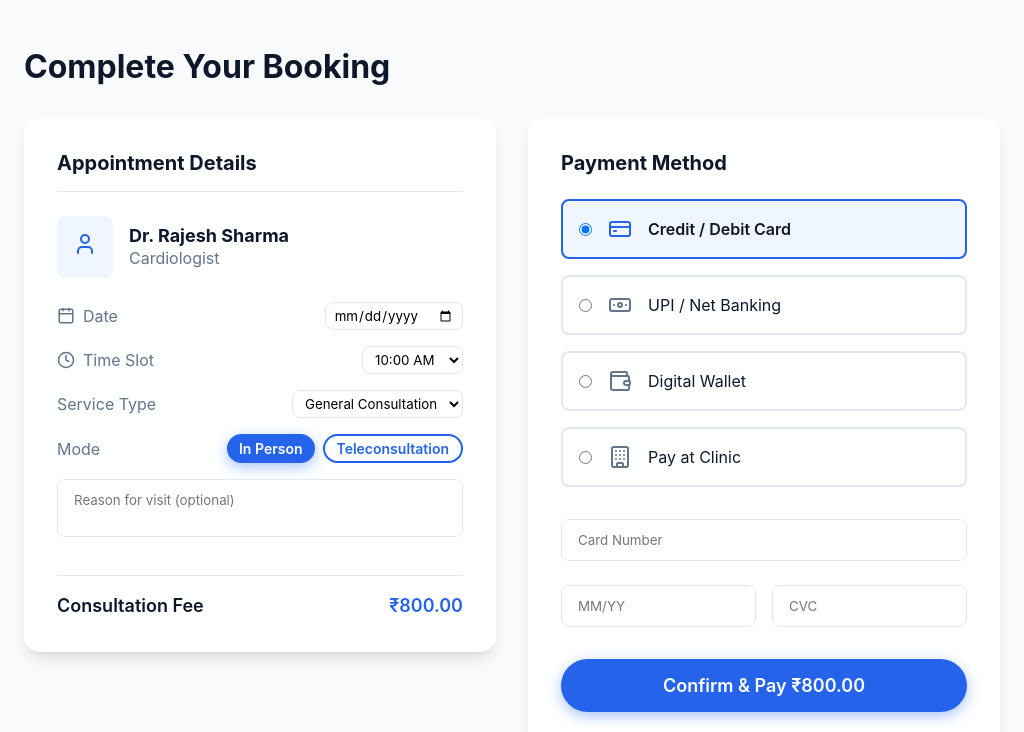
Test: Checkout appointment booking form › shows session expiry when no patient session exists
The image size is (1024, 732).
Type "2026-05-20" into the date field at (394, 316), box [325,302,463,330]
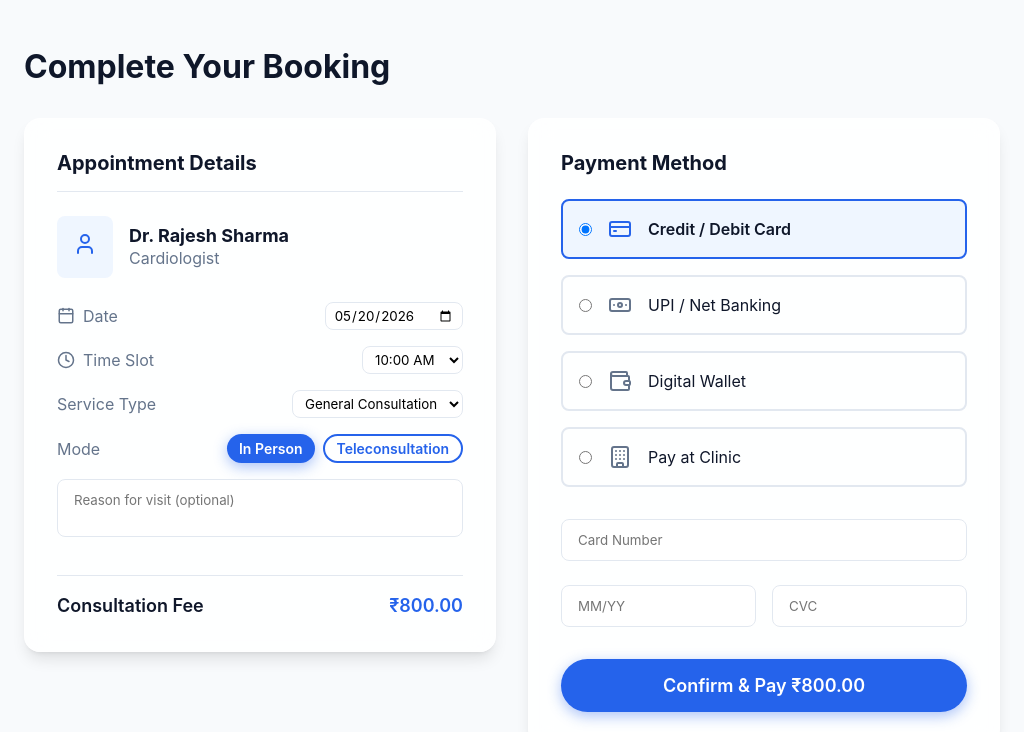
Click the button "Confirm & Pay ₹800.00" at (764, 686), box [561,659,967,712]
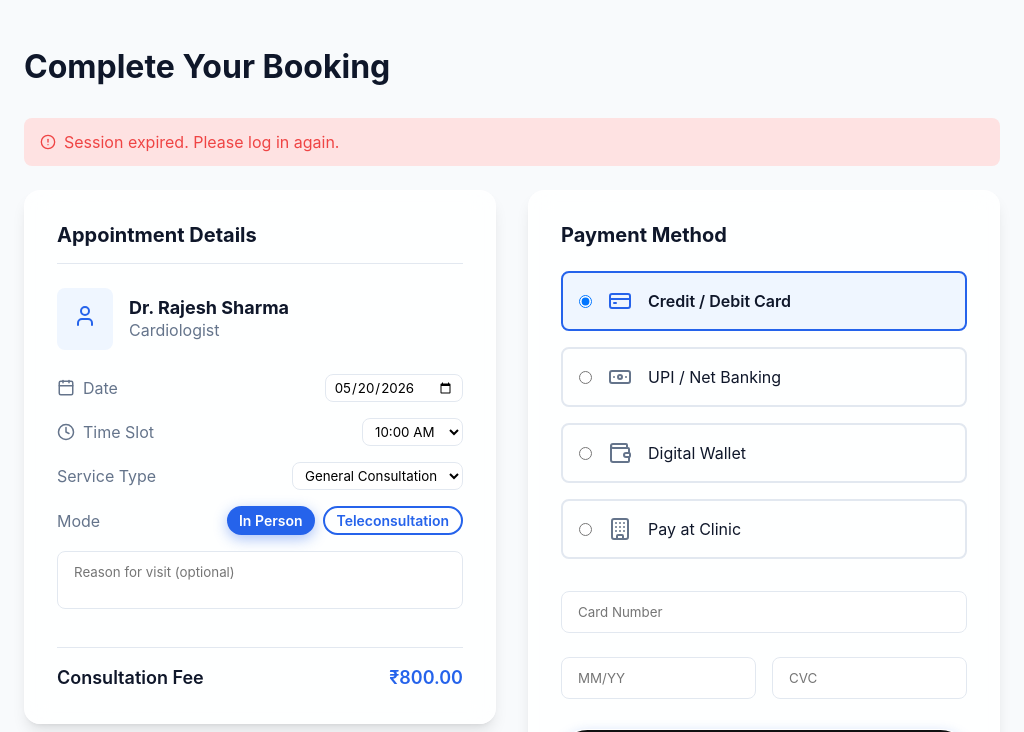
Result: the text "Session expired. Please log in again." is shown at [24,118,1000,166]
